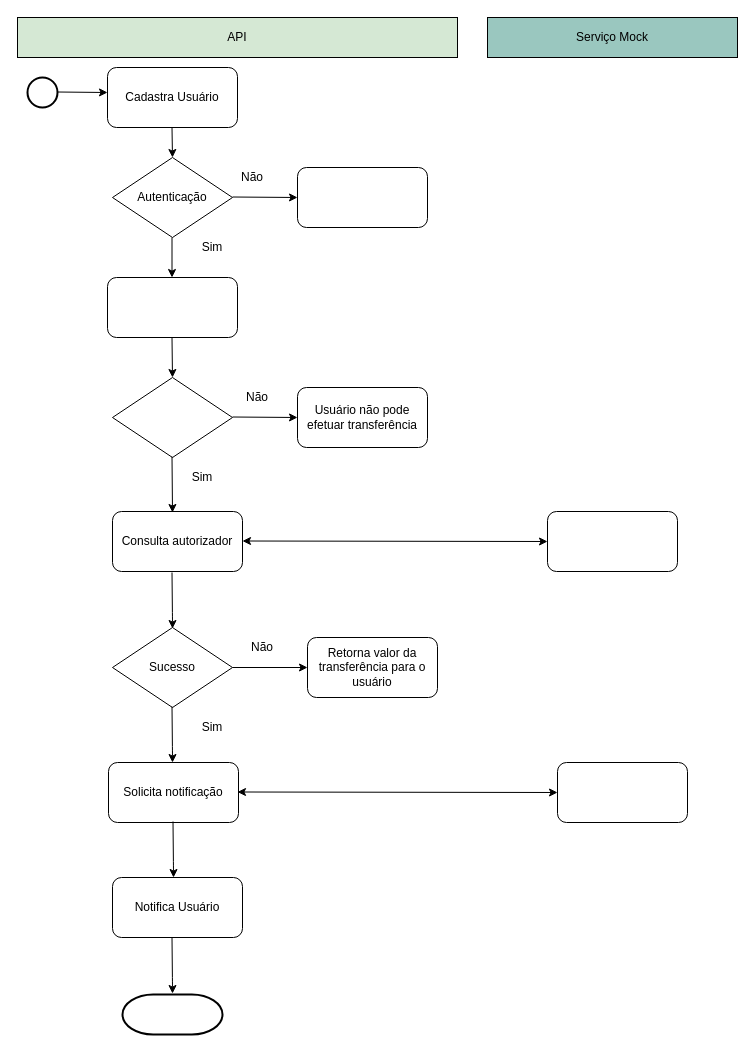
Some shapes in this 755 by 1053 pixel diagram are drawn without their labels. The box of each missing label's shape, as (x1, y1, x2, y2) in pixels:
Autorização: (546, 510, 678, 572)
Enviar transferência: (106, 276, 238, 338)
Erro de autenticação: (296, 166, 428, 228)
Notificação: (556, 762, 688, 822)
Valida usuário: (112, 376, 232, 458)
